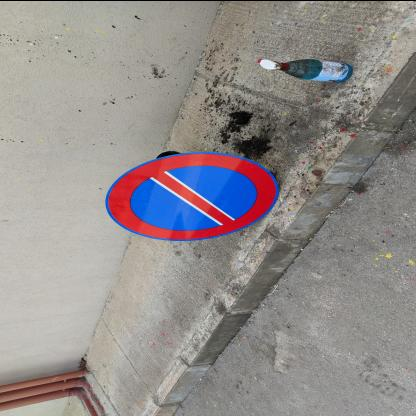No Waiting: (107, 152, 280, 241)
